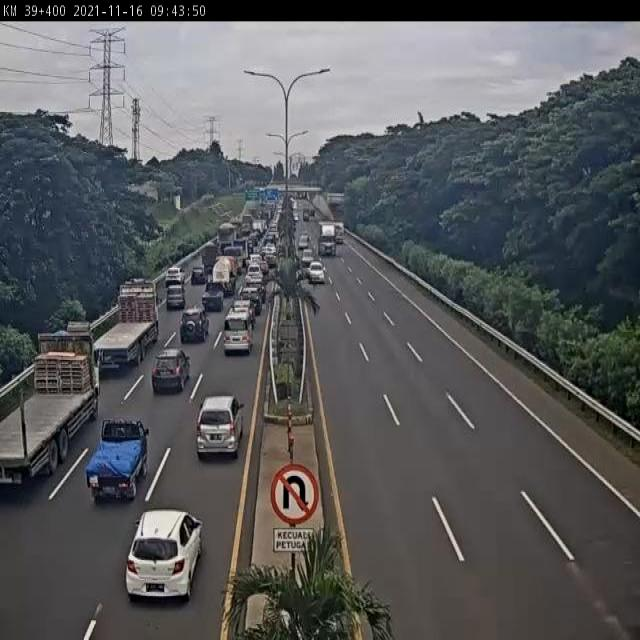Car: (125, 510, 206, 609), (197, 393, 245, 470), (154, 344, 191, 415), (181, 307, 210, 347), (308, 264, 328, 287), (242, 284, 262, 306), (166, 288, 184, 311), (301, 248, 314, 274), (247, 262, 262, 284), (164, 266, 184, 282), (190, 266, 204, 285), (298, 235, 310, 249)
Truck: (0, 335, 97, 499), (90, 279, 160, 380), (86, 414, 152, 494), (222, 299, 256, 355), (211, 256, 236, 294), (197, 245, 218, 282), (318, 221, 335, 261), (201, 281, 225, 309), (214, 222, 234, 251), (226, 246, 244, 273), (334, 226, 346, 245)
